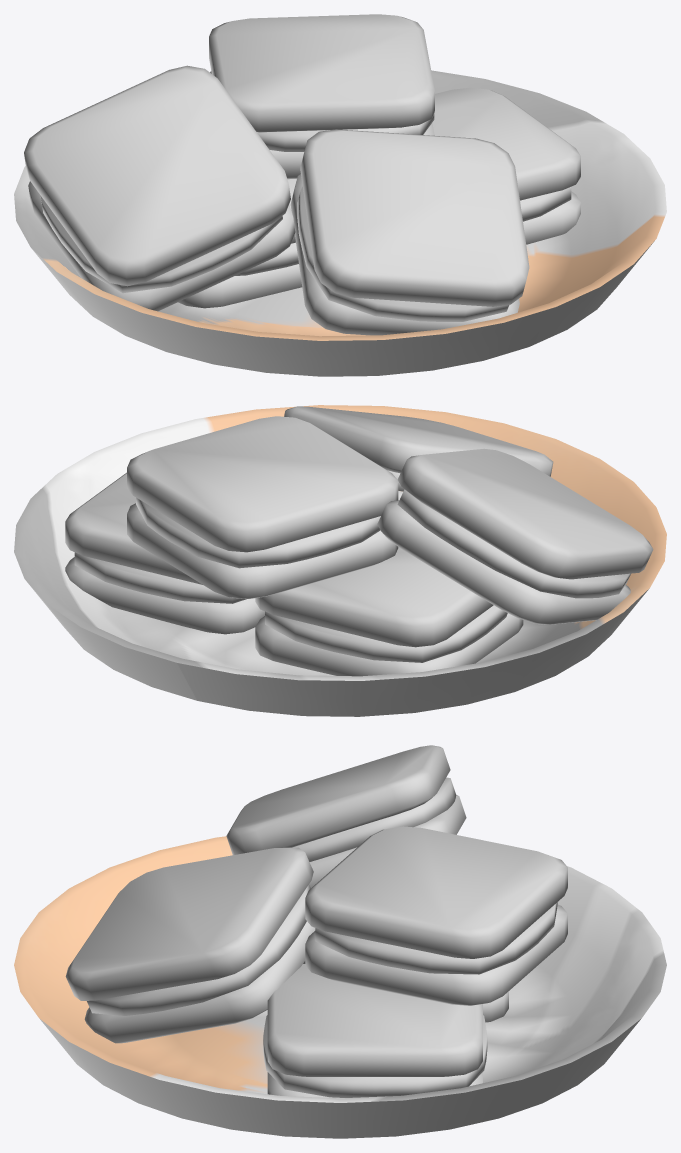
Rendered from 11_2_passatempo.fbx.
3 renders of one model, top to bottom at view 1: azimuth 30°, elevation 25°; view 2: azimuth 150°, elevation 25°; view 3: azimuth 270°, elevation 25°, orthographic.
Visible parts, largest first — view 1: Cylinder.004, Circle.091, Cylinder.002, Cylinder.003, Cylinder.001, Cylinder; view 2: Circle.091, Cylinder.003, Cylinder.004, Cylinder, Cylinder.001, Cylinder.002; view 3: Circle.091, Cylinder.003, Cylinder.002, Cylinder.001, Cylinder.004.
Boxes of the visible parts, <box> form: Cylinder.004: <box>24,65,295,311</box>; Circle.091: <box>14,70,666,376</box>; Cylinder.002: <box>290,129,529,335</box>; Cylinder.003: <box>209,14,434,179</box>; Cylinder.001: <box>432,87,580,244</box>; Cylinder: <box>178,179,302,308</box>; Circle.091: <box>14,405,666,716</box>; Cylinder.003: <box>127,416,398,598</box>; Cylinder.004: <box>377,448,653,624</box>; Cylinder: <box>255,547,523,676</box>; Cylinder.001: <box>65,472,264,634</box>; Cylinder.002: <box>284,406,553,500</box>; Circle.091: <box>14,836,666,1138</box>; Cylinder.003: <box>305,826,567,1005</box>; Cylinder.002: <box>65,847,315,1043</box>; Cylinder.001: <box>263,964,487,1098</box>; Cylinder.004: <box>226,745,466,887</box>.
Bounding box in the file's own units: 5.22 × 1.69 × 5.22.
